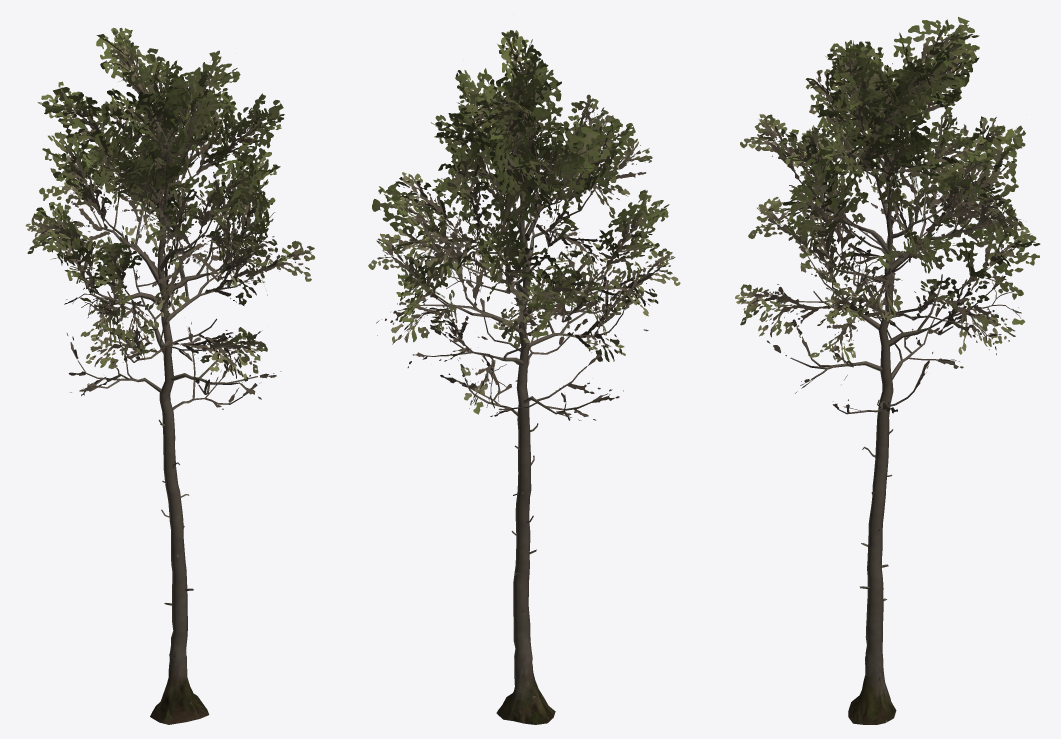
File: SM_BlackAlder_Forest_03_PP_LOD5.gltf
3 renders of one model, left to right at view 1: azimuth 30°, elevation 25°; view 2: azimuth 150°, elevation 25°; view 3: azimuth 270°, elevation 25°, orthographic. The views are drawn at different scales.
Parts seen in each view (by area): view 1: SM_BlackAlder_Forest_03_PP; view 2: SM_BlackAlder_Forest_03_PP; view 3: SM_BlackAlder_Forest_03_PP.
Part boxes in pixels (box(x1,y1,x2,y2)): SM_BlackAlder_Forest_03_PP: box(25, 27, 315, 724); SM_BlackAlder_Forest_03_PP: box(368, 30, 680, 724); SM_BlackAlder_Forest_03_PP: box(735, 17, 1040, 724).
Size of the model in its own units: 7.21 by 17.75 by 7.55.
4 materials, 4 textured.
